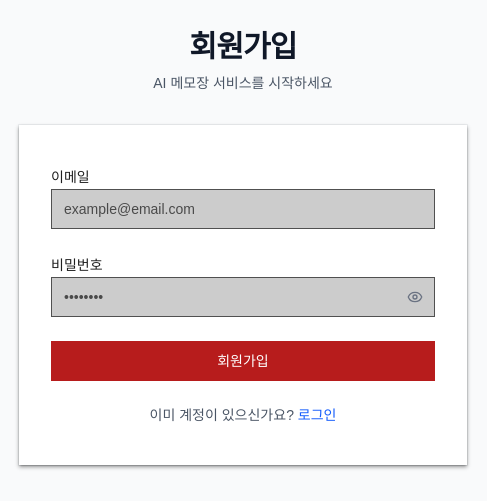
Test: SignUpPage › 약한 비밀번호일 때 에러 메시지를 표시해야 함
This screenshot has width=487, height=501.
Type "test@example.com" into the field labelled "이메일" at (243, 209), box [51, 189, 435, 229]
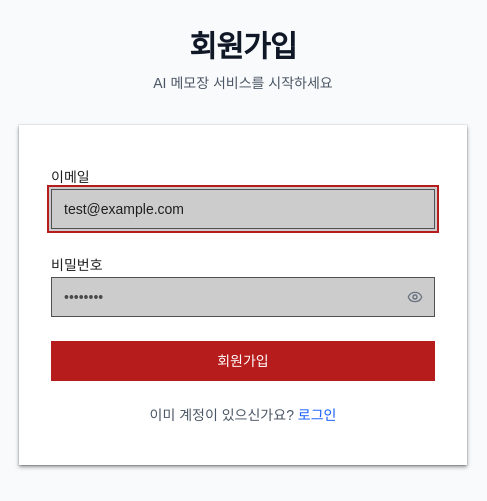
Type "123" into the password field with placeholder "••••••••" at (243, 297), box [51, 277, 435, 317]
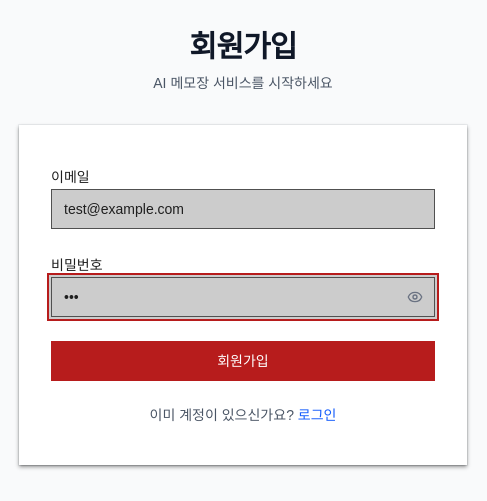
Click the button "회원가입" at (243, 361), box [51, 341, 435, 381]
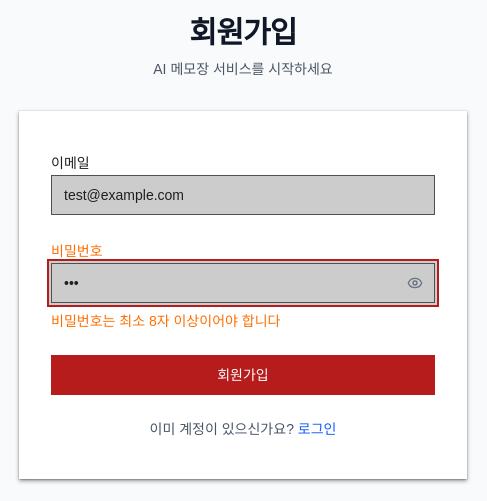
Check: the text "비밀번호는 최소 8자 이상이어야 합니다" is shown, box [51, 313, 280, 329]
